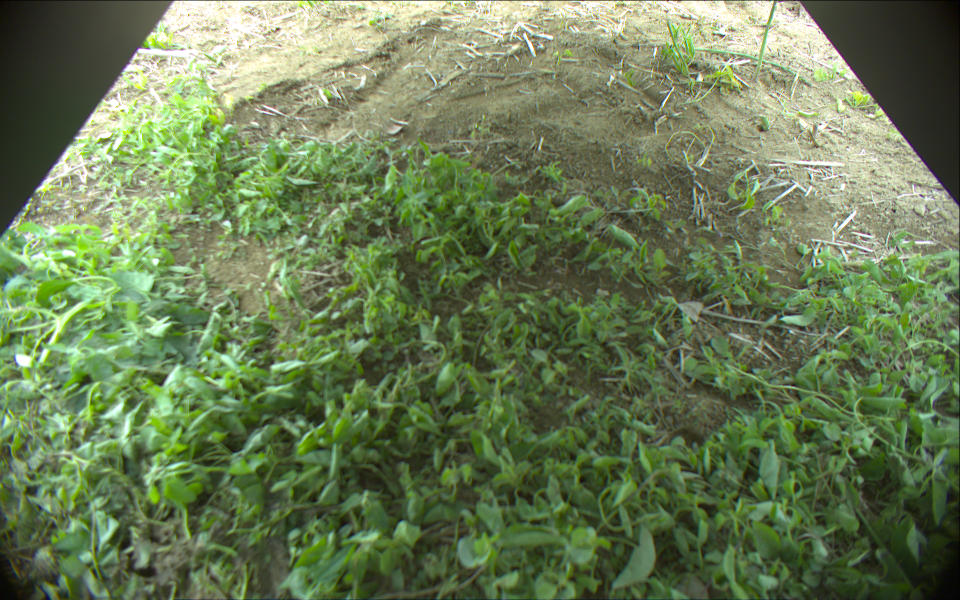aspa: (688, 43, 800, 76), (750, 1, 781, 79)
